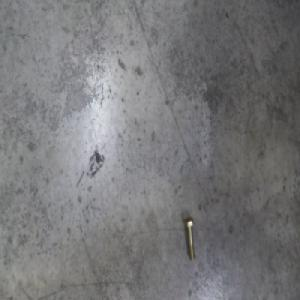Bolt: (183, 216, 195, 261)
